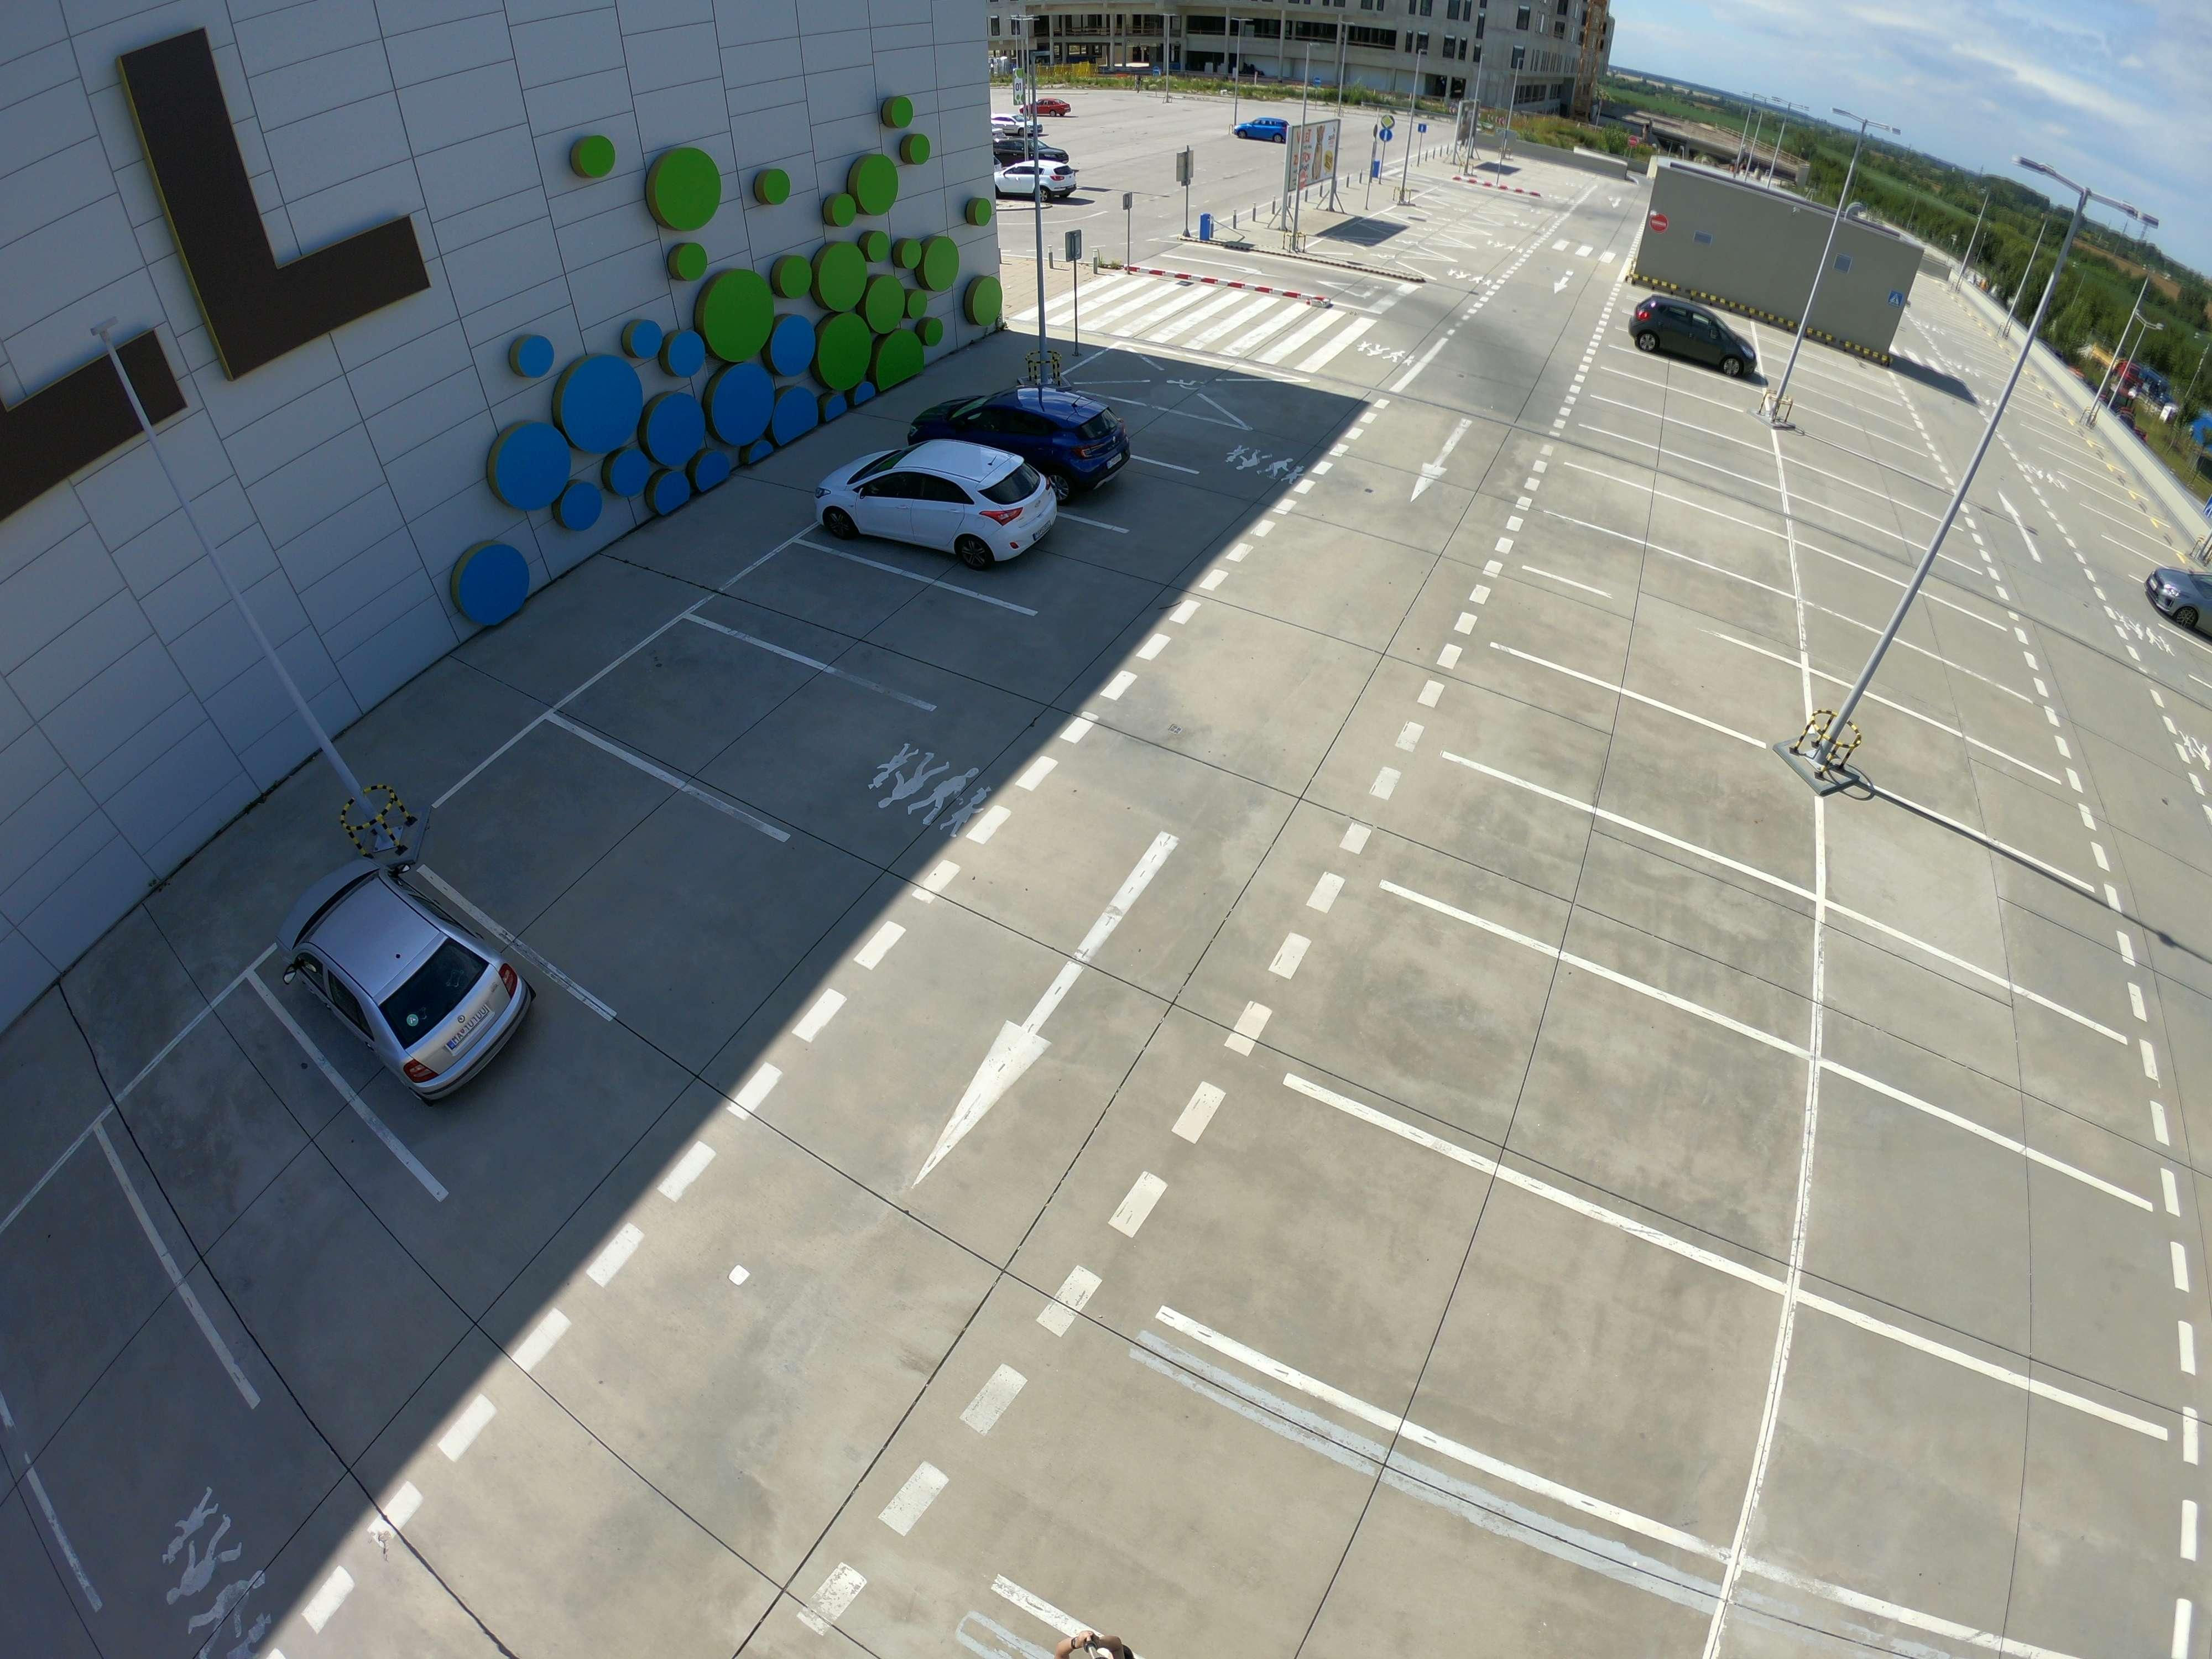empty: (286, 854, 543, 1100), (827, 443, 1061, 570), (944, 389, 1139, 491), (1630, 303, 1771, 383), (988, 148, 1087, 206), (1235, 112, 1303, 145)
occupied: (1101, 1462, 1474, 1659), (1315, 1201, 1625, 1389), (1846, 1438, 2137, 1595), (108, 1080, 376, 1249), (1886, 1192, 2149, 1331), (0, 1286, 197, 1469), (1390, 969, 1637, 1108), (512, 802, 744, 931), (1893, 946, 2043, 1126), (657, 676, 845, 772), (1543, 708, 1703, 816), (1522, 840, 1683, 931), (1881, 859, 2038, 951), (1893, 721, 2027, 819), (1581, 622, 1717, 699), (796, 573, 916, 640), (1858, 652, 1963, 720), (1595, 556, 1703, 617), (1637, 453, 1728, 509), (1599, 498, 1700, 538), (1850, 586, 1930, 636), (1642, 425, 1717, 471), (1855, 533, 1926, 579), (1639, 382, 1733, 406), (1836, 458, 1900, 491), (1841, 504, 1900, 537), (1808, 401, 1867, 420), (1813, 434, 1860, 453)
